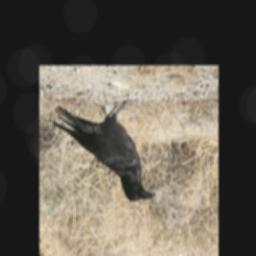Crow: (52, 100, 156, 202)
